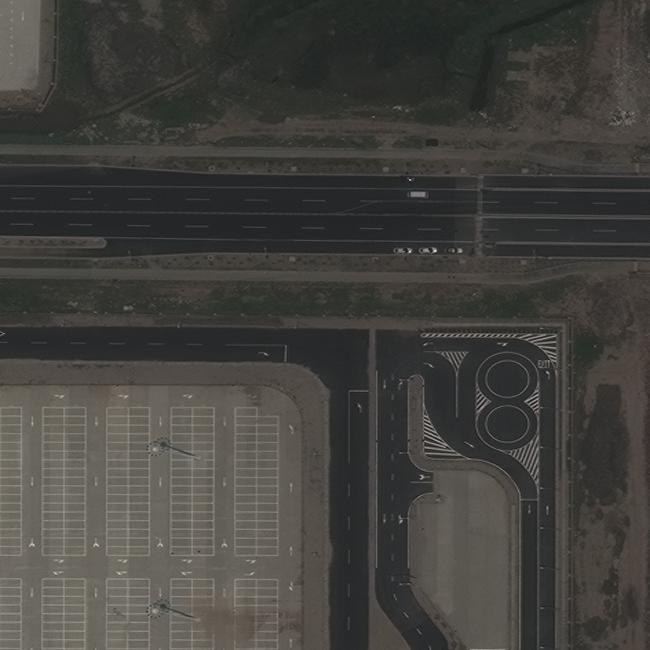parking lot: (192, 406, 216, 557), (169, 406, 193, 557), (128, 406, 151, 557), (105, 406, 128, 557), (65, 406, 88, 557), (42, 406, 65, 557), (234, 407, 257, 557), (1, 406, 23, 557), (257, 416, 278, 556), (256, 579, 279, 650), (233, 578, 256, 649), (192, 578, 215, 649), (169, 578, 192, 649), (128, 578, 151, 649), (105, 578, 128, 649), (64, 578, 87, 649), (41, 578, 64, 649), (1, 578, 23, 649)
